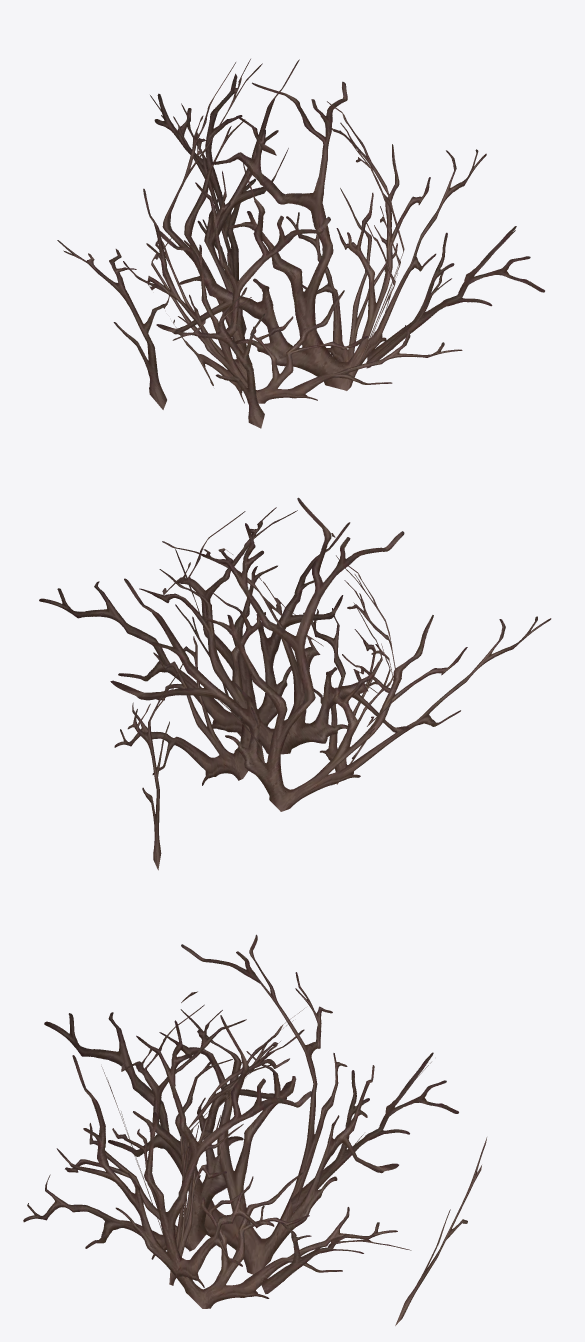
3 renders of one model, top to bottom at view 1: azimuth 30°, elevation 25°; view 2: azimuth 150°, elevation 25°; view 3: azimuth 270°, elevation 25°, orthographic. The views are drawn at different scales.
Bounding box in the file's own units: 3.57 × 2.73 × 3.67.
Materials: 1 (1 with a texture image).
